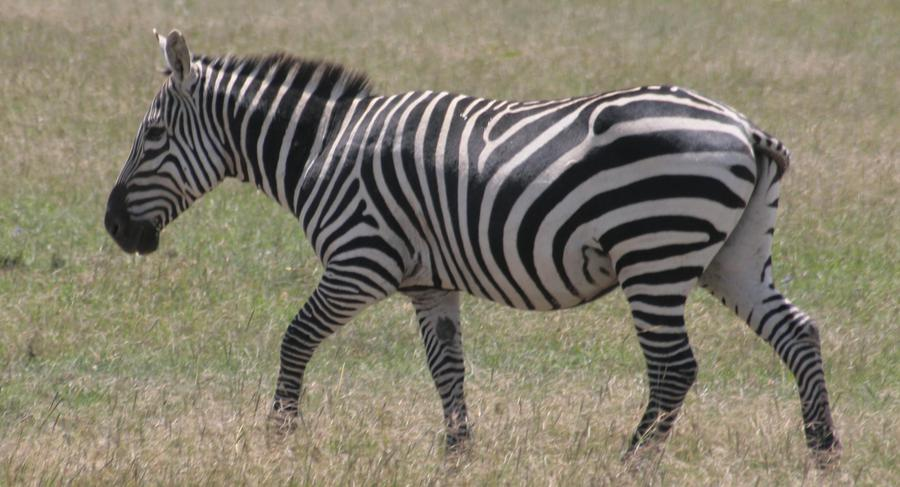zebra_plains: (275, 68, 720, 322)
